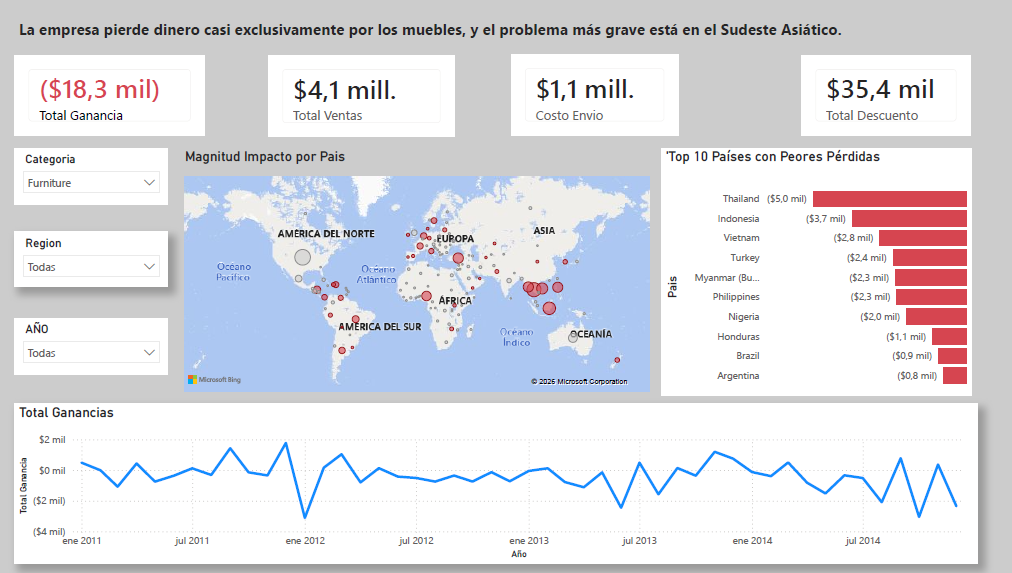

The page's visual inventory and layout, read from the dashboard file:
{"tool":"powerbi","page":{"name":"Análisis de Pérdidas","canvas":[1280,720],"ordinal":0},"visuals":[{"type":"map","fields":{"Category":["Dim_Ubicación.Pais"],"Size":["Fact_Ventas.Magnitud Impacto"]},"box":[223.6,190,581.8,303.6],"z":0},{"type":"textbox","box":[20,25.6,1248.9,47.8],"z":1000},{"type":"cardVisual","fields":{"Data":["Fact_Ventas.Total Ventas"]},"box":[332.2,75.6,227.8,100],"z":2000},{"type":"clusteredBarChart","title":"''Top 10 Países con Peores Pérdidas","fields":{"Category":["Dim_Ubicación.Pais"],"Y":["Fact_Ventas.Total Ganancia"]},"box":[814.5,190,380,303.6],"z":3000},{"type":"cardVisual","fields":{"Data":["Sum(Fact_Ventas.Costo Envio)"]},"box":[630,74.5,204.5,99.1],"z":4000},{"type":"cardVisual","fields":{"Data":["Sum(Fact_Ventas.Descuento)"]},"box":[986.7,75.6,207.8,98.9],"z":5000},{"type":"cardVisual","fields":{"Data":["Fact_Ventas.Total Ganancia"]},"box":[20,75.6,233.3,98.9],"z":6001},{"type":"slicer","fields":{"Values":["Dim_Producto.Categoria"]},"box":[20,190,187.8,68.9],"z":6002},{"type":"slicer","fields":{"Values":["Dim_Ubicación.Region"]},"box":[20,293.3,187.8,66.7],"z":6003},{"type":"lineChart","title":"Total Ganancias","fields":{"Category":["Dim_Calendario.Date.Variación.Jerarquía de fechas.Año","Dim_Calendario.Date.Variación.Jerarquía de fechas.Mes"],"Y":["Fact_Ventas.Total Ganancia"]},"box":[20,503.6,1182.7,196.4],"z":6005},{"type":"slicer","fields":{"Values":["Dim_Calendario.AÑO"]},"box":[20,398.9,187.8,68.9],"z":6006}]}

Visuals, with their boxes in screenshot pixels (x1, y1, x2, y2), scaled from the page's 1280x720 canvas onto the 1012x573 screenshot:
map - Dim_Ubicación.Pais x Fact_Ventas.Magnitud Impacto: x1=177 y1=151 x2=637 y2=393
textbox: x1=16 y1=20 x2=1003 y2=58
cardVisual - Fact_Ventas.Total Ventas: x1=263 y1=60 x2=443 y2=140
"''Top 10 Países con Peores Pérdidas" clusteredBarChart: x1=644 y1=151 x2=944 y2=393
cardVisual - Sum(Fact_Ventas.Costo Envio): x1=498 y1=59 x2=660 y2=138
cardVisual - Sum(Fact_Ventas.Descuento): x1=780 y1=60 x2=944 y2=139
cardVisual - Fact_Ventas.Total Ganancia: x1=16 y1=60 x2=200 y2=139
slicer - Dim_Producto.Categoria: x1=16 y1=151 x2=164 y2=206
slicer - Dim_Ubicación.Region: x1=16 y1=233 x2=164 y2=286
"Total Ganancias" lineChart: x1=16 y1=401 x2=951 y2=557
slicer - Dim_Calendario.AÑO: x1=16 y1=317 x2=164 y2=372
